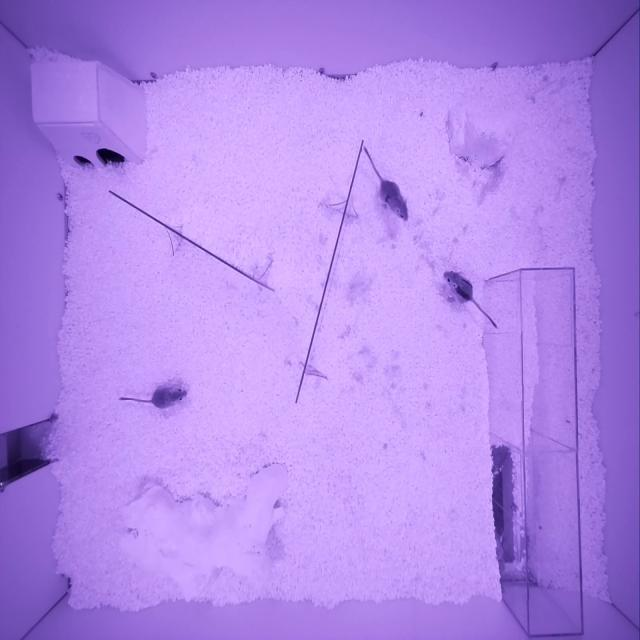pup_fluffy: (151, 388, 187, 409)
pup_spotted: (378, 179, 408, 220)
pup_v_stripe: (443, 270, 472, 303)
